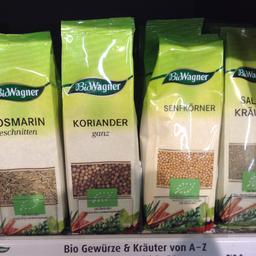spices: (58, 17, 138, 231), (140, 28, 222, 234), (0, 31, 64, 233)
